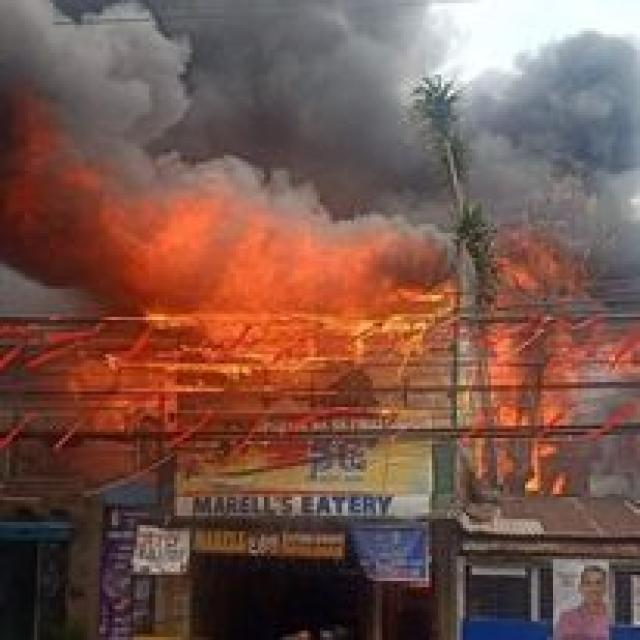Fire: (147, 226, 462, 391)
Smoke: (0, 0, 640, 233)
